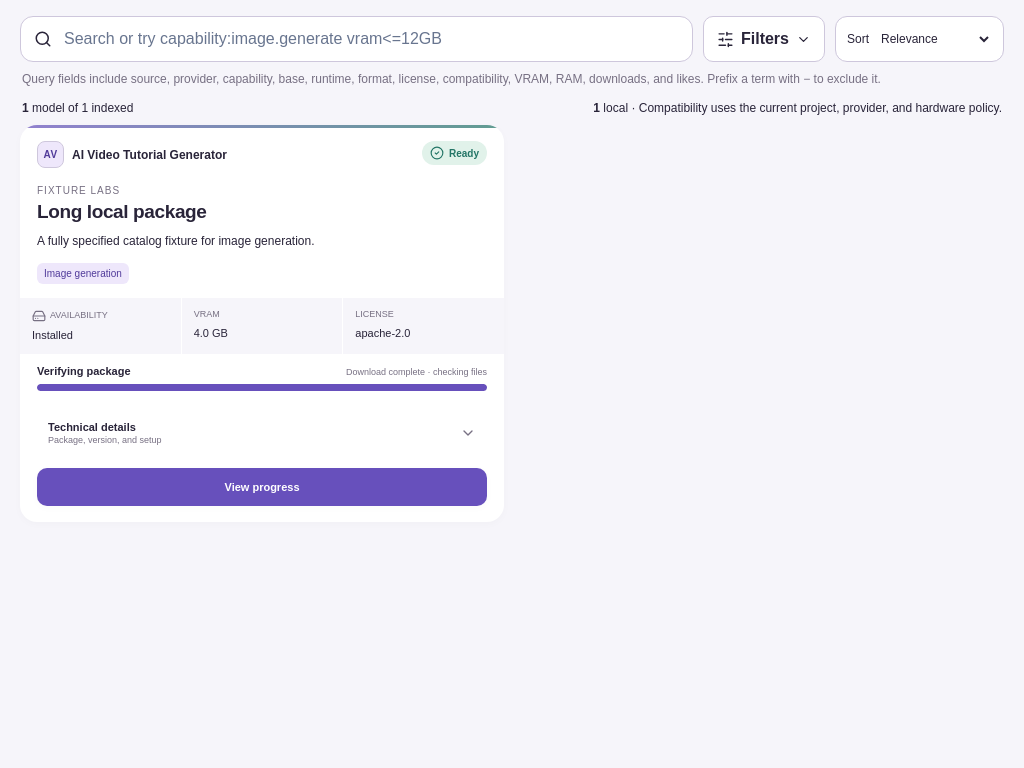
Scenario: catalog selection controls › uses one progress action and keeps raw local diagnostics inside technical details
The image size is (1024, 768).
Expected: the text "Verifying package" is shown, [37,365,130,377]
Expected: the text "Download complete · checking files" is shown, [346,367,487,377]
Click the text "Technical details": (92, 427) [48,421,136,433]
(page scrolled)
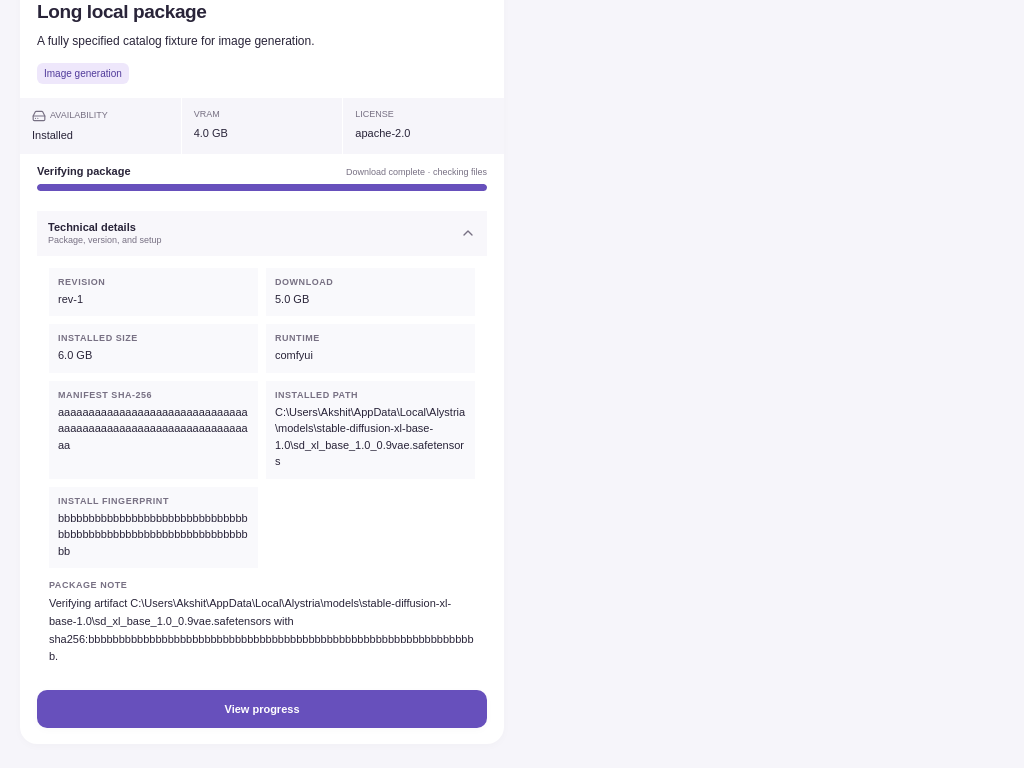
Result: the text "C:\\Users\\Akshit\\AppData\\Local\\Alystria\\models\\stable-diffusion-xl-base-1.0\\sd_xl_base_1.0_0.9vae.safetensors" is shown at [275,406,465,467]
Result: the text "Verifying artifact" is shown at [49,597,474,662]
